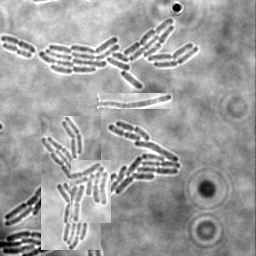Dividing: (97, 93, 173, 109), (1, 34, 37, 52), (3, 41, 33, 57)
Microcolony: (40, 18, 199, 89), (41, 116, 101, 250), (102, 120, 181, 197), (71, 160, 111, 223), (5, 184, 41, 226), (1, 230, 56, 255)
